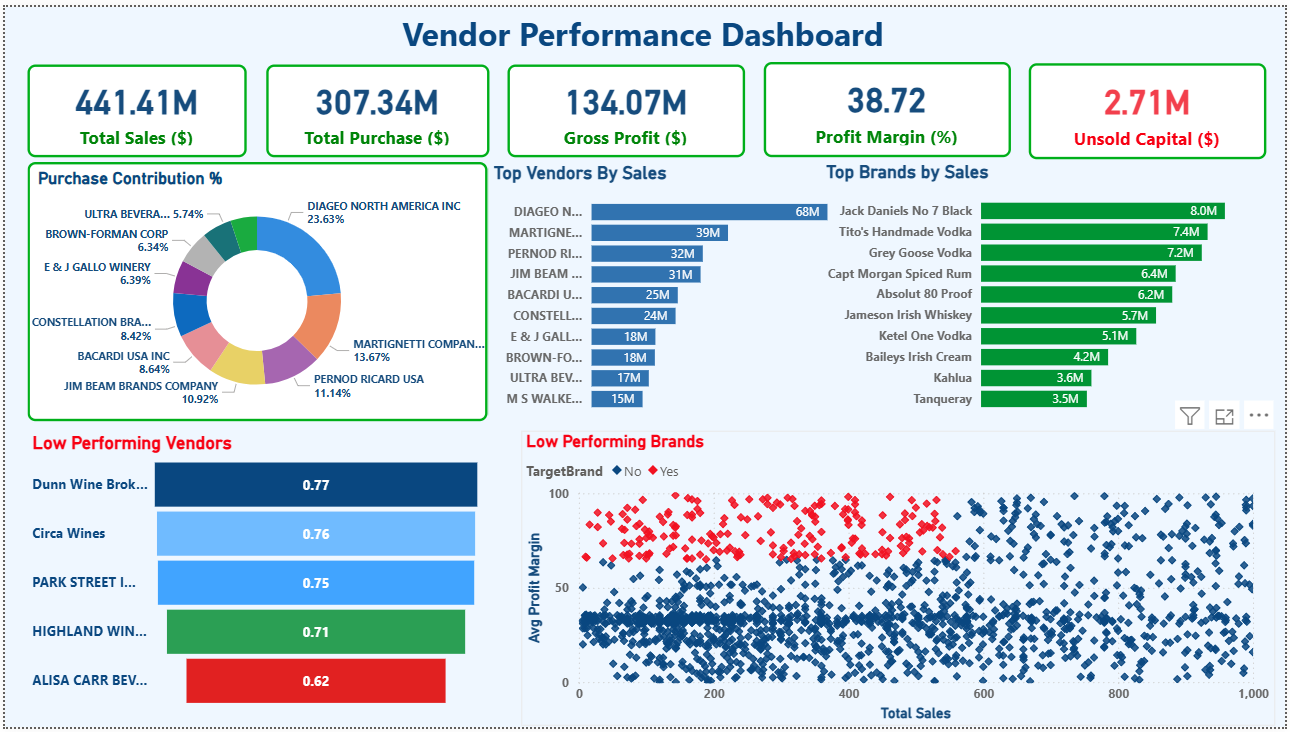

What the dashboard file says about the page in this screenshot:
{"tool":"powerbi","page":{"name":"Page 1","canvas":[1280,720],"ordinal":0},"visuals":[{"type":"card","fields":{"Values":["Sum(vendor_sales_summary.TotalPurchaseDollars)"]},"box":[260.5,57.7,223.8,92.9],"z":0},{"type":"card","fields":{"Values":["Sum(vendor_sales_summary.GrossProfit)"]},"box":[502.6,57.7,237.2,92.9],"z":1000},{"type":"card","fields":{"Values":["Sum(vendor_sales_summary.TotalSalesDollars)"]},"box":[23.2,57.7,218.9,92.9],"z":2000},{"type":"card","fields":{"Values":["Sum(vendor_sales_summary.UnsoldCapital)"]},"box":[1023.5,56.4,238.5,95.4],"z":3000},{"type":"card","fields":{"Values":["Avg(vendor_sales_summary.ProfitMargin)"]},"box":[758.2,56.4,247,95.4],"z":4000},{"type":"donutChart","title":"Purchase Contribution %","fields":{"Y":["Sum(PurchaseContribution.PurchaseContribution%)"],"Category":["PurchaseContribution.VendorName"]},"box":[23.2,157.6,459.8,259.2],"z":5000},{"type":"barChart","title":"Top Vendors By Sales","fields":{"Category":["vendor_sales_summary.VendorName"],"Y":["Sum(vendor_sales_summary.TotalSalesDollars)"]},"box":[501.4,157.6,390.1,259.2],"z":6000},{"type":"barChart","title":"Top Brands by Sales","fields":{"Y":["Sum(vendor_sales_summary.TotalSalesDollars)"],"Category":["vendor_sales_summary.Description"]},"box":[834.9,156.4,445.1,260.5],"z":7000},{"type":"funnel","title":"Low Performing Vendors","fields":{"Category":["LowTurnoverVendor.VendorName"],"Y":["Sum(LowTurnoverVendor.AvgStockTurnOver)"]},"box":[22,433.1,459.8,272.7],"z":8000},{"type":"scatterChart","title":"Low Performing Brands","fields":{"Category":["BrandPerformance.Description"],"Series":["BrandPerformance.TargetBrand"],"X":["Sum(BrandPerformance.TotalSales)"],"Y":["Sum(BrandPerformance.AvgProfitMargin)"]},"box":[517.3,433.1,752,286.1],"z":9000},{"type":"textbox","box":[13.5,3.7,1248.5,53.8],"z":10000}]}

Visuals, with their boxes in screenshot pixels (x1, y1, x2, y2), scaled from the page's 1280x720 canvas onto the 1290x732 screenshot:
card - Sum(vendor_sales_summary.TotalPurchaseDollars): bbox(263, 59, 488, 153)
card - Sum(vendor_sales_summary.GrossProfit): bbox(507, 59, 746, 153)
card - Sum(vendor_sales_summary.TotalSalesDollars): bbox(23, 59, 244, 153)
card - Sum(vendor_sales_summary.UnsoldCapital): bbox(1031, 57, 1272, 154)
card - Avg(vendor_sales_summary.ProfitMargin): bbox(764, 57, 1013, 154)
"Purchase Contribution %" donutChart: bbox(23, 160, 487, 424)
"Top Vendors By Sales" barChart: bbox(505, 160, 898, 424)
"Top Brands by Sales" barChart: bbox(841, 159, 1289, 424)
"Low Performing Vendors" funnel: bbox(22, 440, 486, 718)
"Low Performing Brands" scatterChart: bbox(521, 440, 1279, 731)
textbox: bbox(14, 4, 1272, 58)
